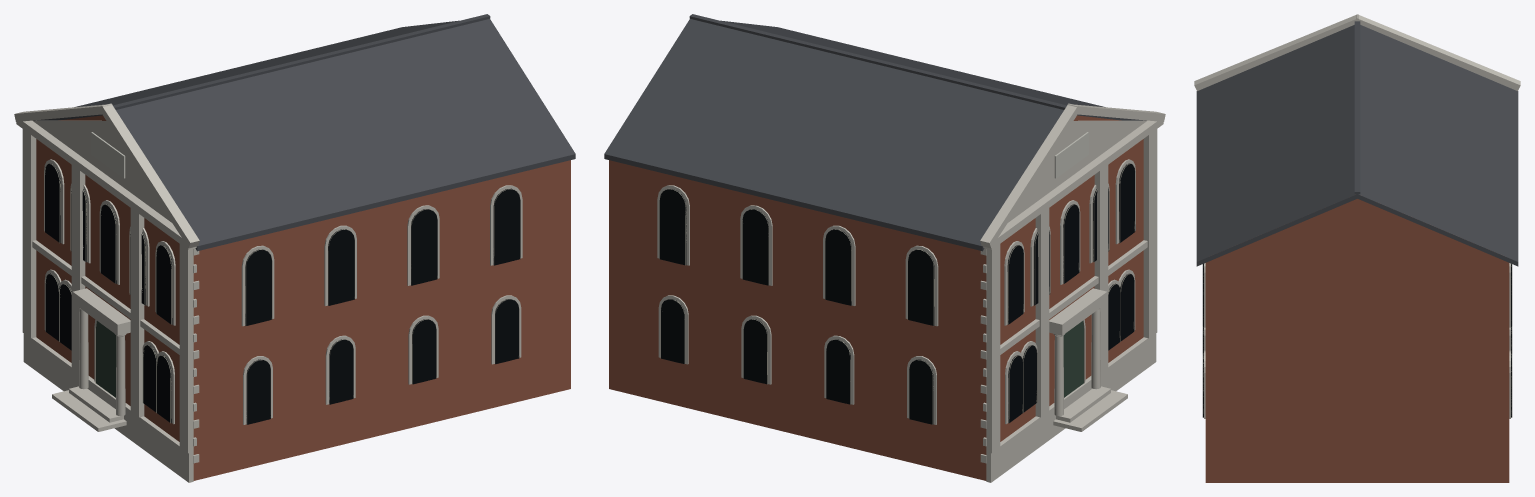
The model's file is context.church.methodist_chapel.glb.
The picture shows the model from 3 angles, left to right: view 1: azimuth 30°, elevation 25°; view 2: azimuth 150°, elevation 25°; view 3: azimuth 270°, elevation 25°; orthographic projection. The views are drawn at different scales.
Visible parts, largest first — view 1: main__stone_854, main__clad_455, main__stone_cbb, main__glass_dark, main__stone_998, main__timber_344, main__stone_ccb; view 2: main__stone_854, main__clad_455, main__stone_cbb, main__glass_dark, main__stone_998, main__timber_344, main__stone_ccb; view 3: main__stone_854, main__clad_455, main__stone_cbb, main__stone_998.
Part boxes in pixels (bbox=[...]): main__stone_854: bbox=[36, 115, 570, 480]; main__clad_455: bbox=[33, 14, 575, 251]; main__stone_cbb: bbox=[14, 103, 522, 482]; main__glass_dark: bbox=[45, 163, 520, 424]; main__stone_998: bbox=[44, 163, 520, 424]; main__timber_344: bbox=[96, 321, 116, 397]; main__stone_ccb: bbox=[91, 132, 125, 178]; main__stone_854: bbox=[609, 115, 1143, 480]; main__clad_455: bbox=[604, 14, 1146, 251]; main__stone_cbb: bbox=[657, 103, 1165, 482]; main__glass_dark: bbox=[659, 163, 1135, 424]; main__stone_998: bbox=[659, 163, 1135, 424]; main__timber_344: bbox=[1063, 321, 1083, 397]; main__stone_ccb: bbox=[1054, 132, 1088, 178]; main__stone_854: bbox=[1205, 199, 1509, 482]; main__clad_455: bbox=[1196, 21, 1518, 266]; main__stone_cbb: bbox=[1194, 14, 1520, 418]; main__stone_998: bbox=[1202, 264, 1512, 417].
Size of the model in its own units: 17.5 by 12.83 by 12.91.
